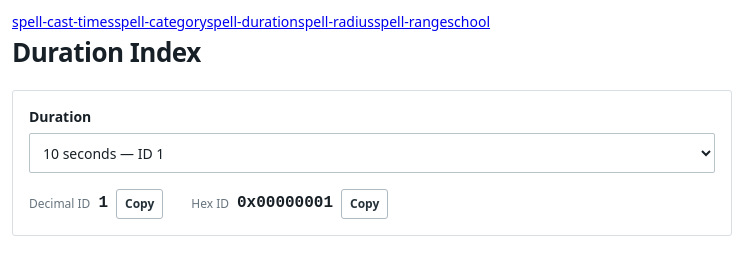
Test case: DBC reference pages › spell-duration has one dropdown and displays the selected ID without a table
Select "10 seconds — ID 1" in the dropdown labelled "Duration" at (372, 153), box [29,133,715,173]
Expected: the text named "Decimal ID" reads "1", [98,194,108,212]
Expected: the text named "Hex ID" reads "0x00000001", [237,194,333,212]
Select "6–16 seconds — ID 553" in the dropdown labelled "Duration" at (372, 153), box [29,133,715,173]
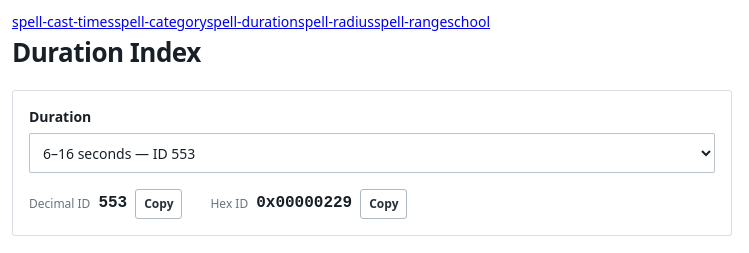
Expected: the text named "Decimal ID" reads "553", [98,194,127,212]
